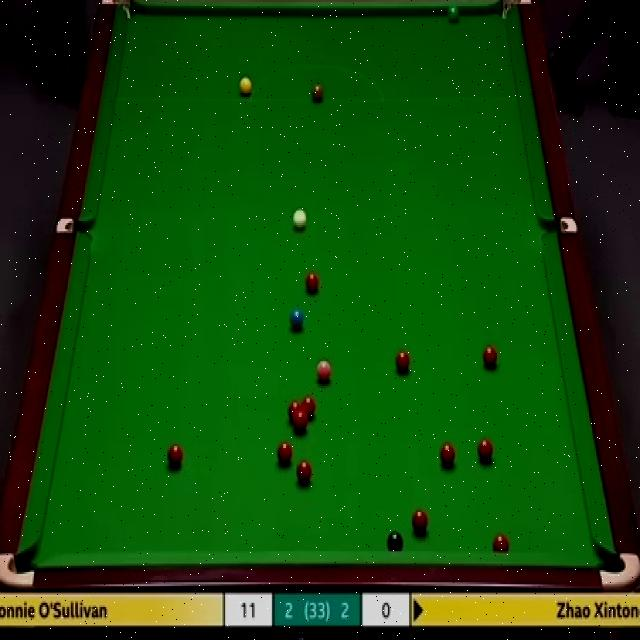black-ball: (387, 529, 404, 552)
blue-ball: (288, 308, 306, 330)
brown-ball: (312, 80, 324, 101)
green-ball: (447, 1, 461, 21)
pink-ball: (316, 360, 332, 386)
red-ball: (163, 444, 186, 469), (439, 442, 458, 469), (296, 456, 314, 484), (411, 510, 429, 537), (394, 347, 411, 375), (274, 443, 294, 466), (478, 437, 495, 463), (287, 400, 302, 426), (303, 272, 322, 292), (482, 345, 497, 370), (302, 396, 316, 420), (492, 532, 510, 550), (293, 414, 309, 434)
white-ball: (292, 208, 309, 229)
yellow-ball: (239, 78, 251, 95)
